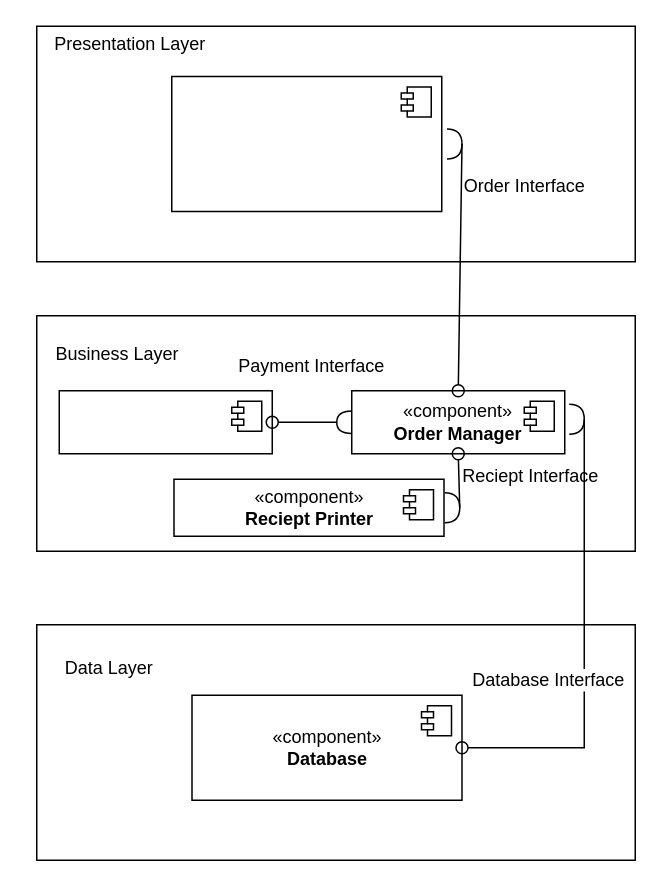
Some shapes in this 662 by 887 pixel diagram are drawn without their labels. Here are the shapes that lost their labels. From the top down, the box of each, then its label:
(170, 75, 442, 212): «component» User Interface
(58, 389, 272, 454): «component» Payment Service
